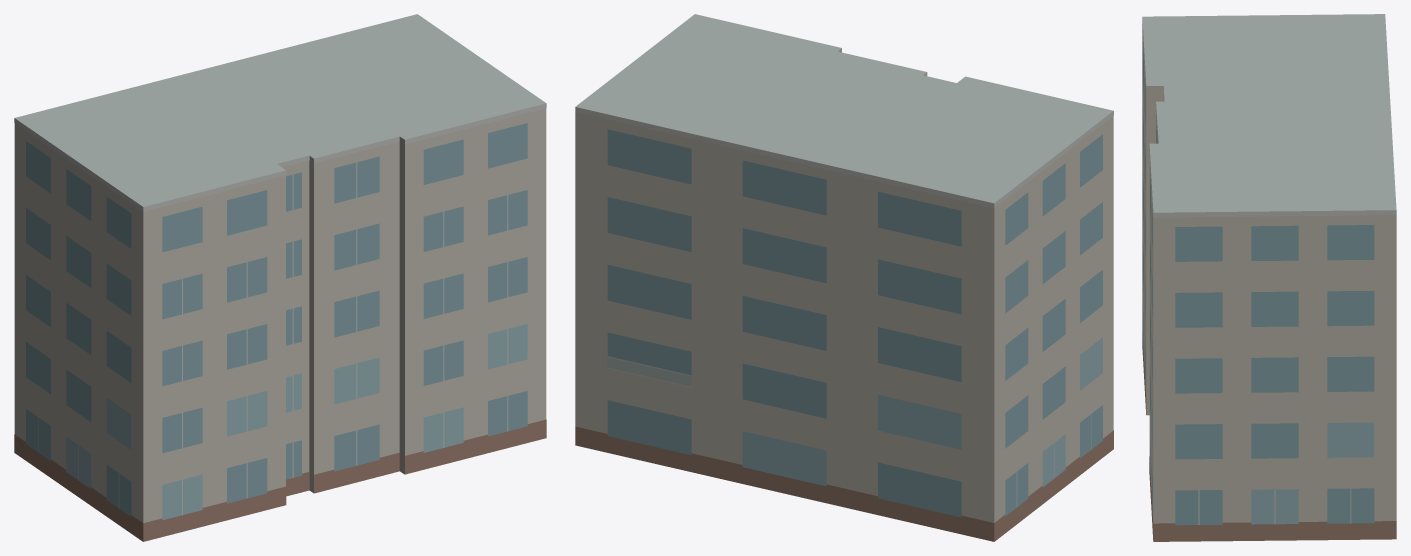
The model's file is survey-upis-32653973.glb.
3 renders of one model, left to right at view 1: azimuth 30°, elevation 25°; view 2: azimuth 150°, elevation 25°; view 3: azimuth 270°, elevation 25°, orthographic. The views are drawn at different scales.
Parts seen in each view (by area): view 1: survey-upis-32653973.tmp; view 2: survey-upis-32653973.tmp; view 3: survey-upis-32653973.tmp.
Part boxes in pixels (bbox=[...]): survey-upis-32653973.tmp: bbox=[14, 14, 546, 541]; survey-upis-32653973.tmp: bbox=[575, 14, 1113, 541]; survey-upis-32653973.tmp: bbox=[1142, 14, 1396, 541].
Size of the model in its own units: 21.49 by 16.6 by 11.63.
